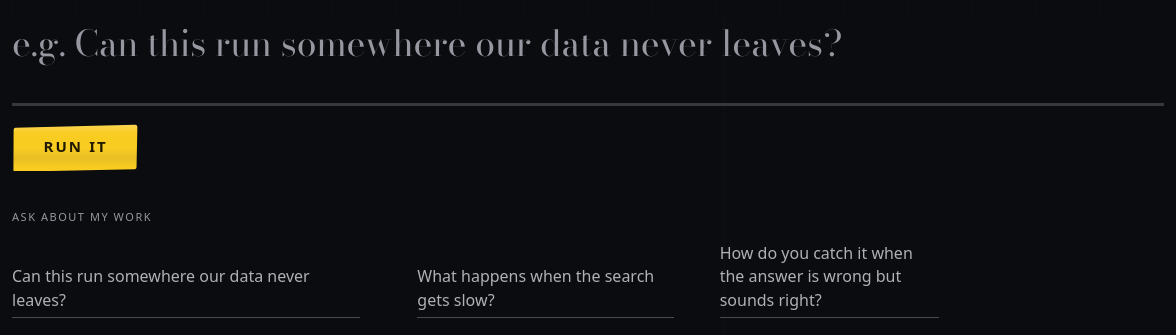
Test case: IntakeDesk › loads a shelf problem into the field without asking it
Click the button "Can this run somewhere our data never leaves?" at point(161, 276), box [12,266,360,318]
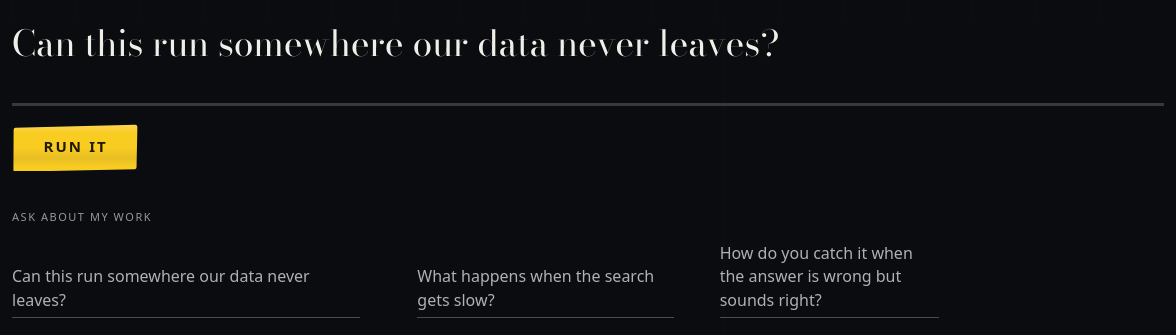
Result: the text box named "Your question" holds "Can this run somewhere our data never leaves?" at [12,17,1164,106]
